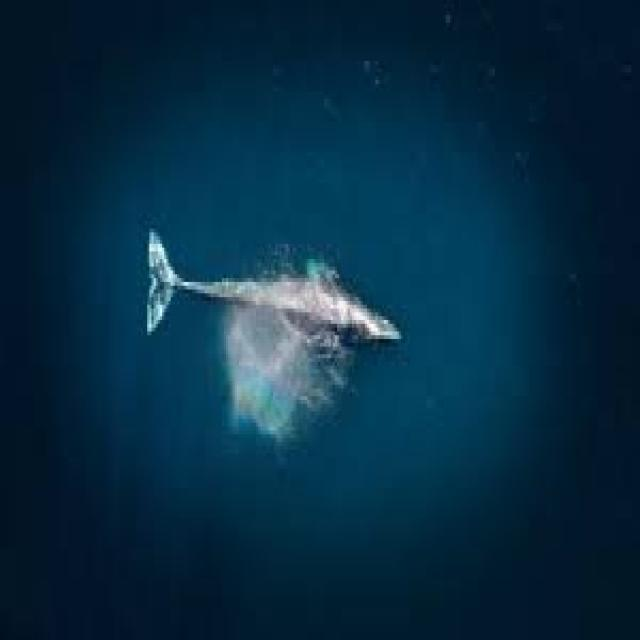whale: (147, 229, 401, 347)
